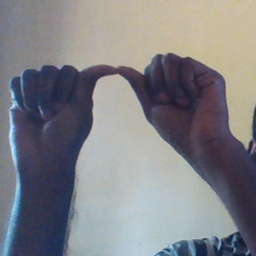A: (6, 51, 232, 163)
